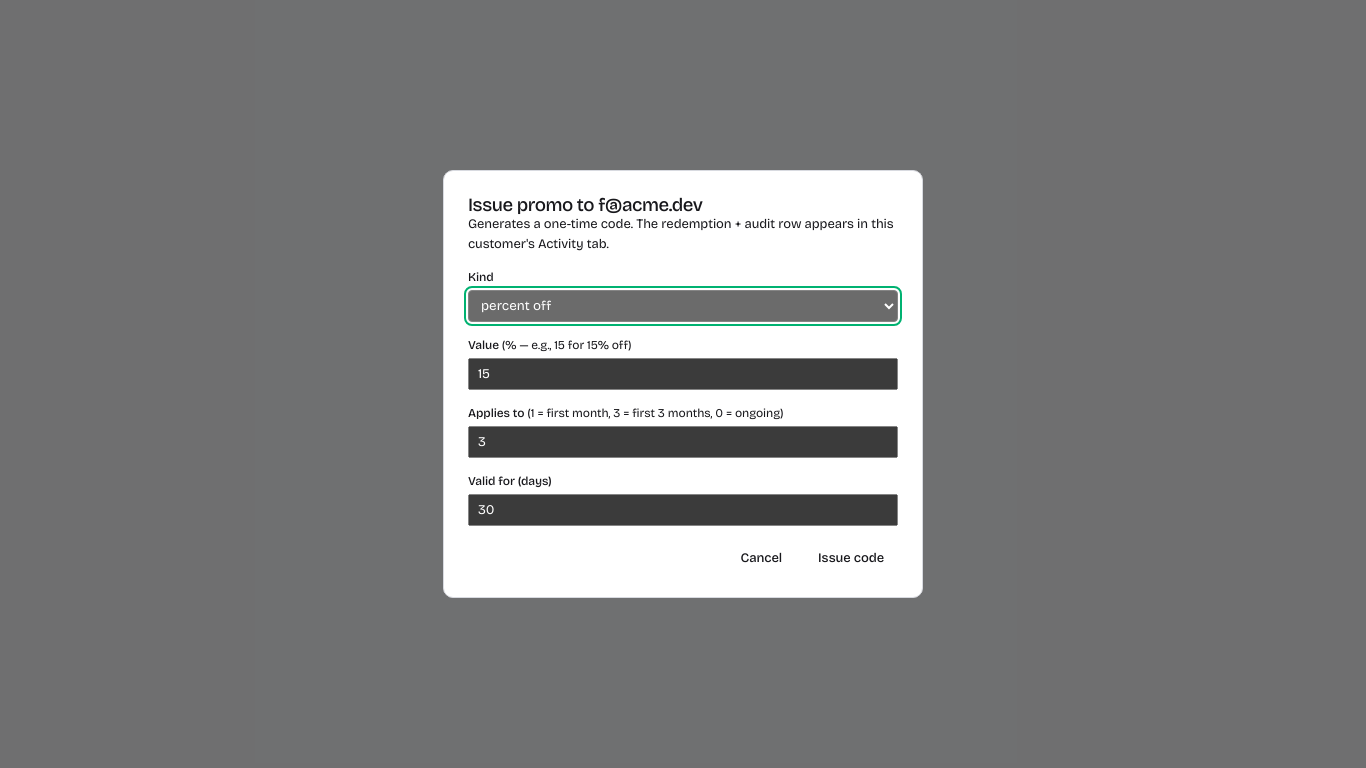
Test: IssuePromoModal › issues a promo and shows the issued code with an expiry date
Step 1. Click the button with test id "promo-submit" → (851, 559), box [804,544,898,573]
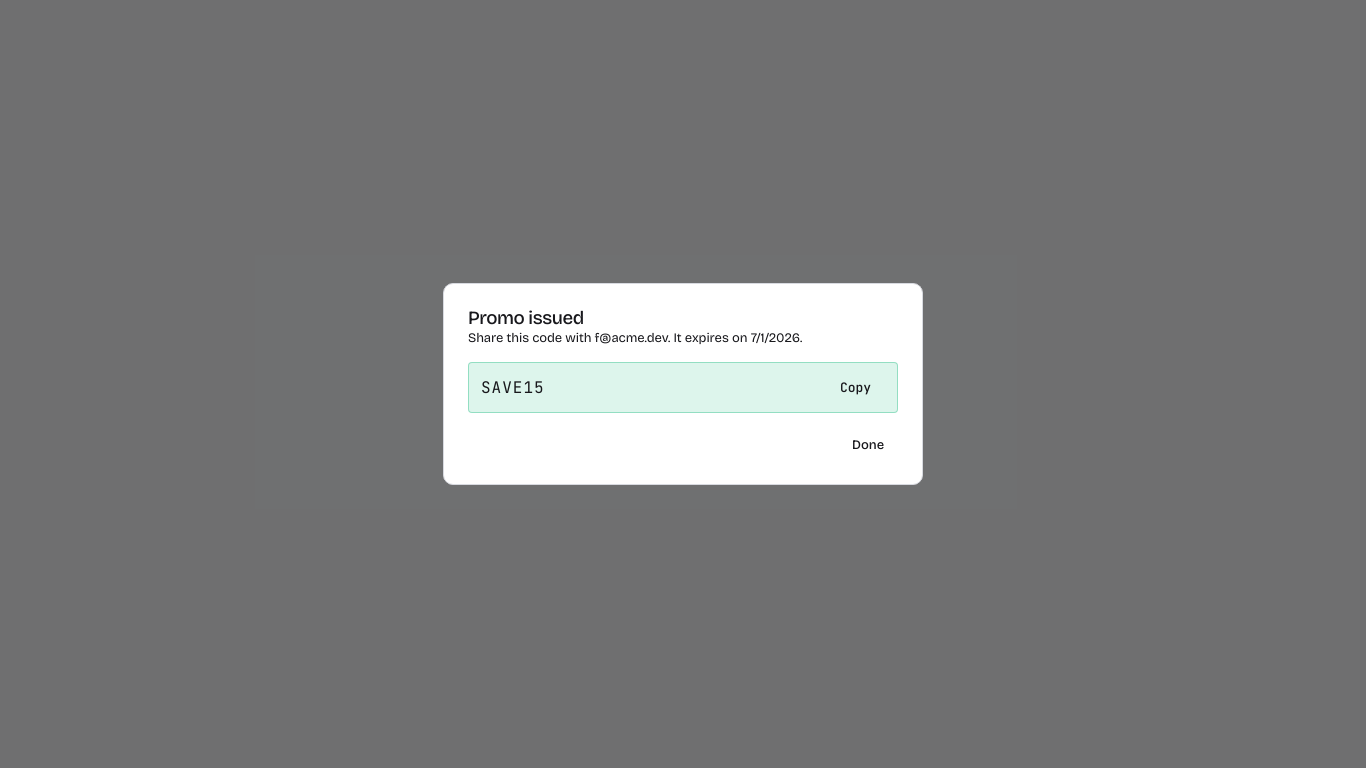
Expected: the element with test id "promo-issued" is shown, [468,308,898,460]
Expected: the text "SAVE15" is shown, [481,376,545,400]
